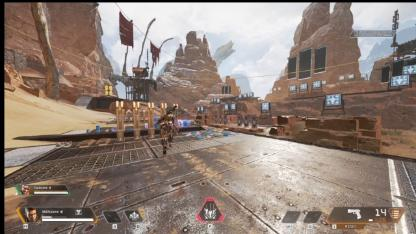Target: (159, 110, 173, 152)
